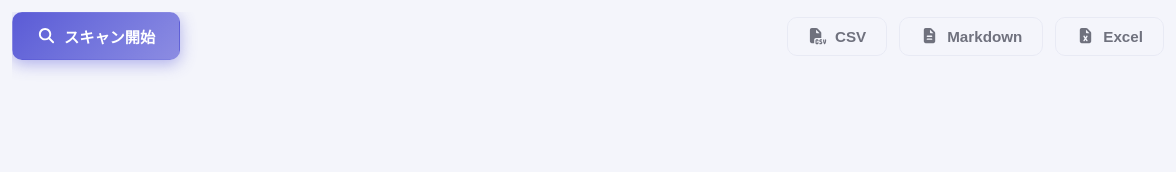
ScanServicesPanel › rate_limitedの場合、連打を示すメッセージを表示する
Step 1. Click the button "スキャン開始" → (96, 36), box [12,12,180,60]
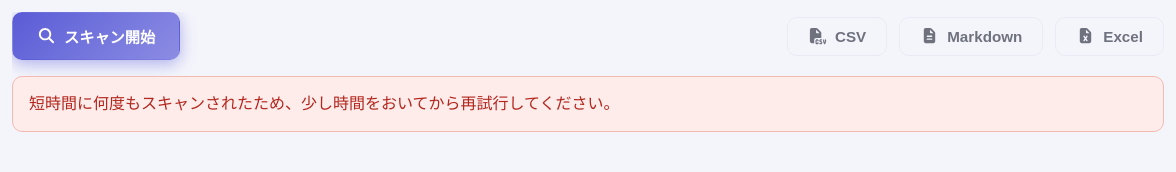
Expected: the message shows "少し時間をおいてから再試行", [29,93,620,113]
